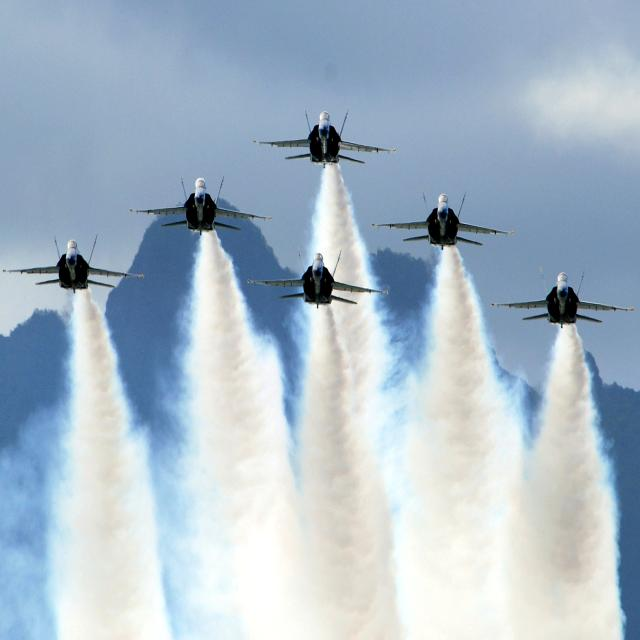MIL_Plane: (253, 105, 396, 169), (372, 187, 514, 251), (491, 266, 634, 329), (2, 234, 145, 294), (129, 176, 272, 236), (248, 250, 388, 310)
